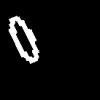chain: (9, 16, 38, 63)
